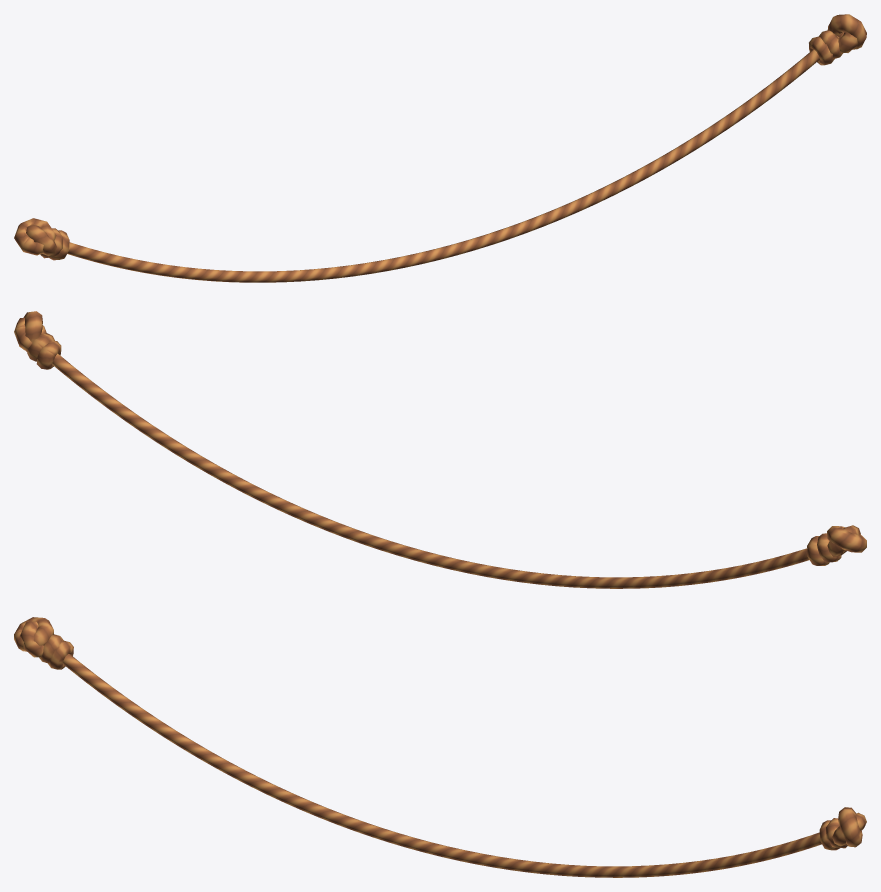
The model's file is SE_Rope_01b.fbx.
3 renders of one model, top to bottom at view 1: azimuth 30°, elevation 25°; view 2: azimuth 150°, elevation 25°; view 3: azimuth 330°, elevation 25°, orthographic.
Parts seen in each view (by area): view 1: SE_Rope_01b; view 2: SE_Rope_01b; view 3: SE_Rope_01b.
Boxes of the visible parts, x1,y1,x2,y2 form: SE_Rope_01b: [14, 14, 866, 282]; SE_Rope_01b: [14, 311, 866, 588]; SE_Rope_01b: [14, 617, 866, 877].
Bounding box in the file's own units: 12.09 × 2.06 × 0.5222.
